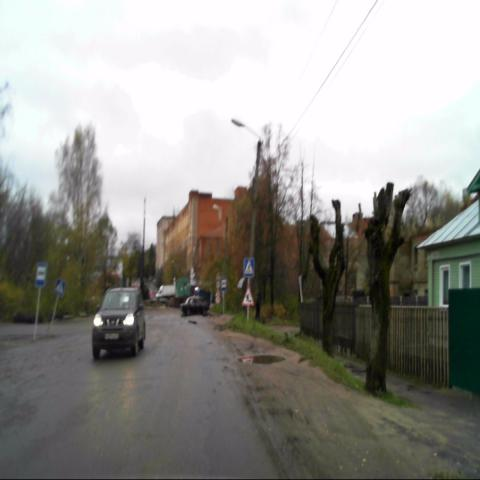1_25: (241, 286, 255, 306)
